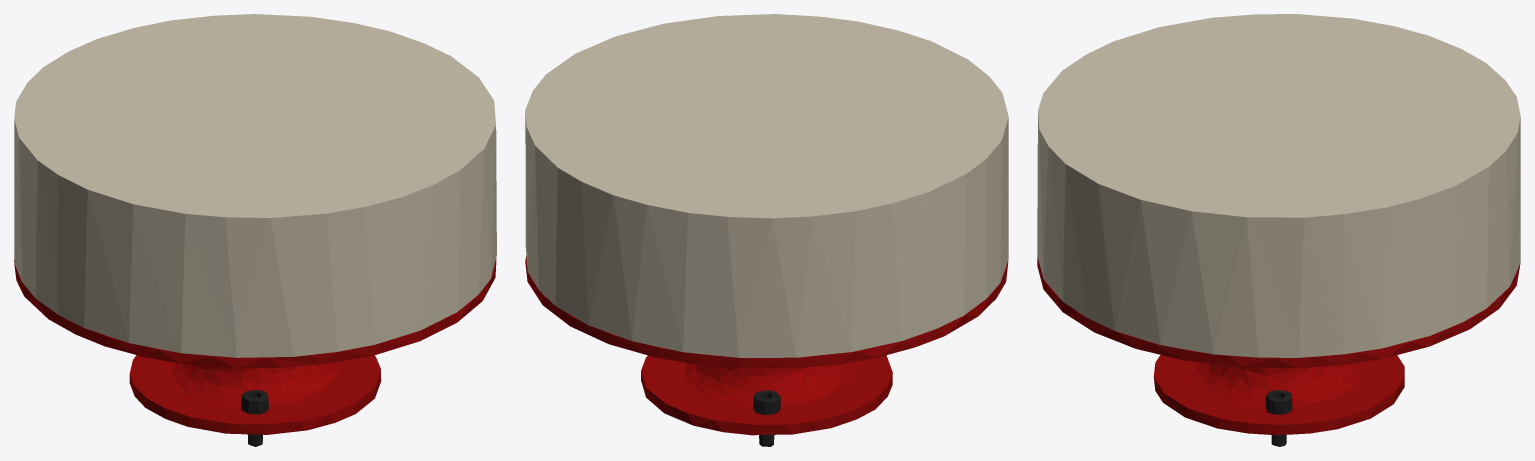
File: end_effector_brush_short.dae
3 views of the same model, side by side, from view 1: azimuth 30°, elevation 25°; view 2: azimuth 150°, elevation 25°; view 3: azimuth 270°, elevation 25° (orthographic).
Parts seen in each view (by area): view 1: Shape_IndexedFaceSet.001; view 2: Shape_IndexedFaceSet.001; view 3: Shape_IndexedFaceSet.001.
Boxes of the visible parts, box(x1,y1,x2,y2) form: Shape_IndexedFaceSet.001: box(14, 14, 496, 446); Shape_IndexedFaceSet.001: box(525, 14, 1008, 446); Shape_IndexedFaceSet.001: box(1037, 14, 1520, 446).
Size of the model in its own units: 0.1252 by 0.1251 by 0.083.
